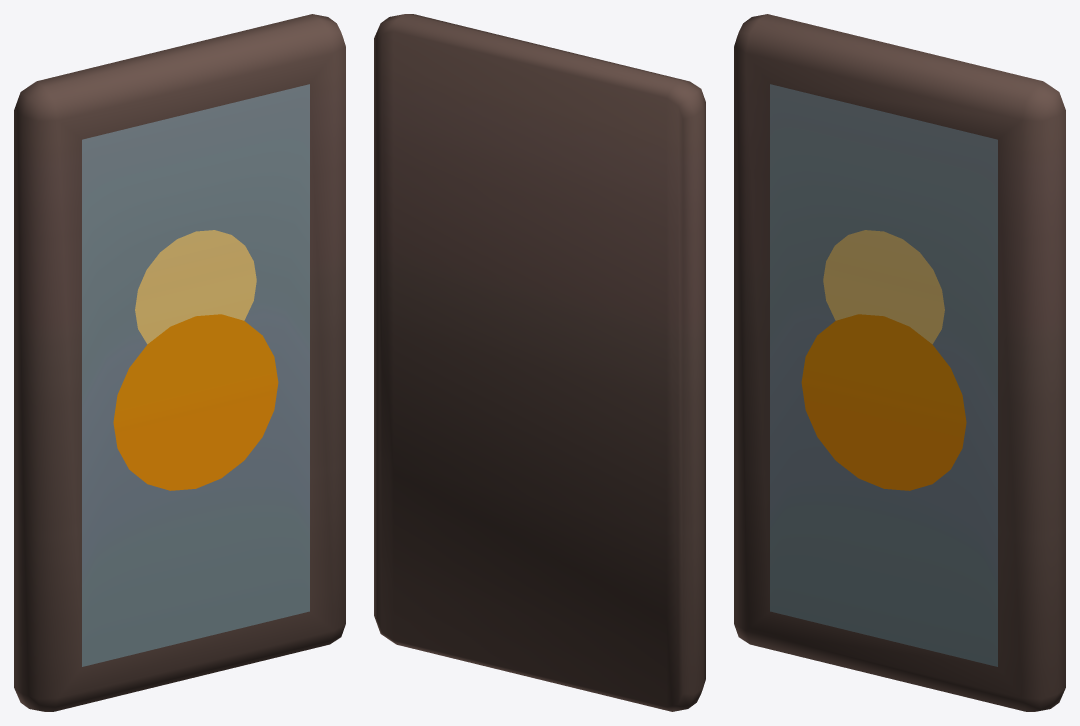
Rendered from Picture_16.glb.
The picture shows the model from 3 angles, left to right: view 1: azimuth 30°, elevation 25°; view 2: azimuth 150°, elevation 25°; view 3: azimuth 330°, elevation 25°; orthographic projection.
Parts seen in each view (by area): view 1: Picture_16; view 2: Picture_16; view 3: Picture_16.
Part boxes in pixels (x1,y1,x2,y2): Picture_16: (14, 14, 345, 711); Picture_16: (374, 14, 705, 711); Picture_16: (734, 14, 1065, 711).
Bounding box in the file's own units: 0.43 × 0.8 × 0.06.
1 material, 1 textured.
